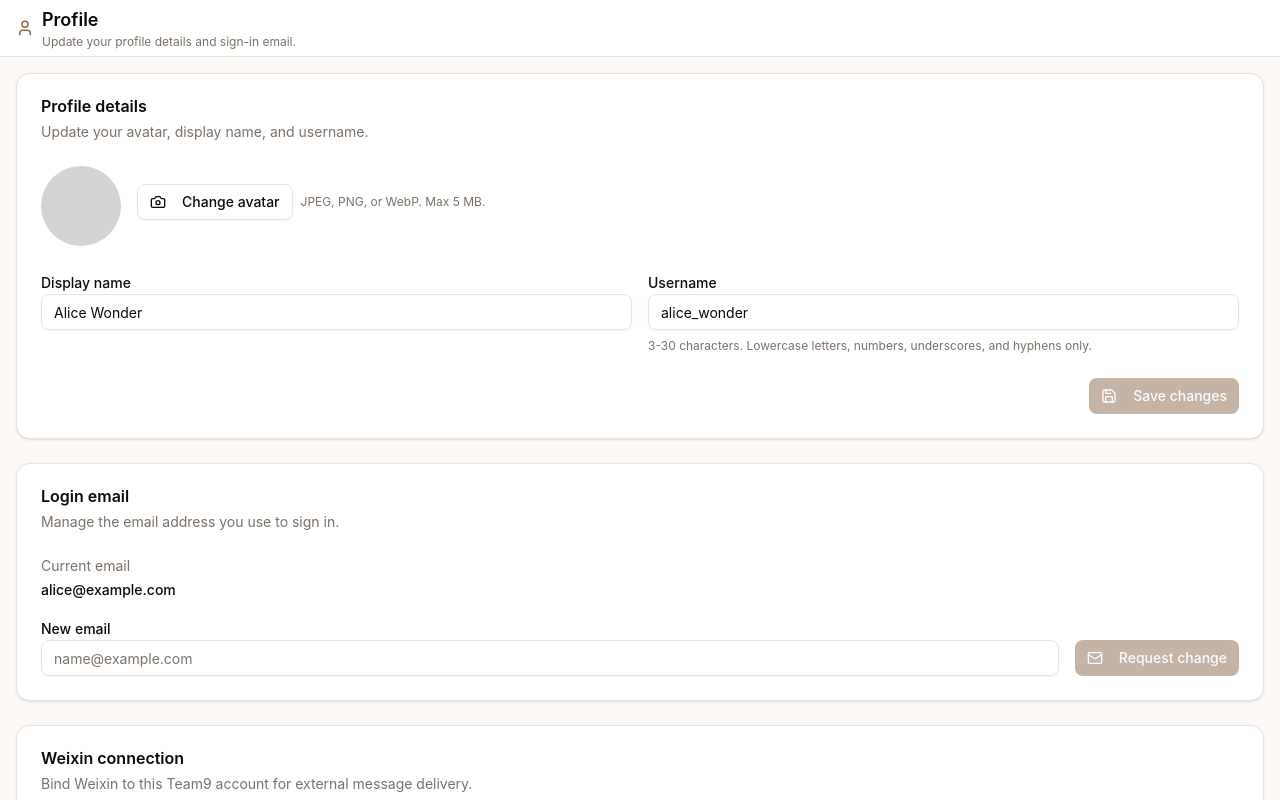
Test: AccountSettingsContent › shows a specific error when the new email is already in use
Type "taken@example.com" into the field labelled "New email".
click(550, 658); type("taken@example.com")  # box [41,640,1059,676]
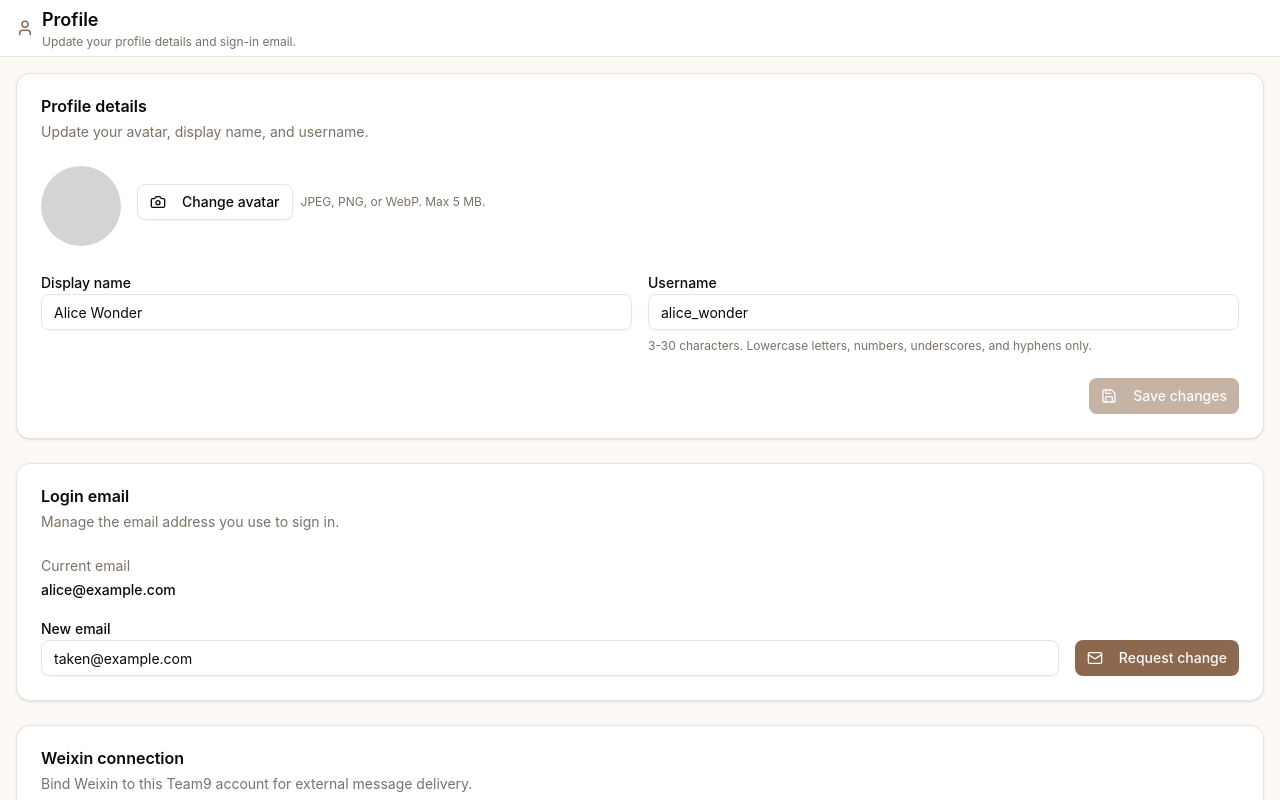
Click the button "Request change".
click(1157, 658)  # box [1075,640,1239,676]
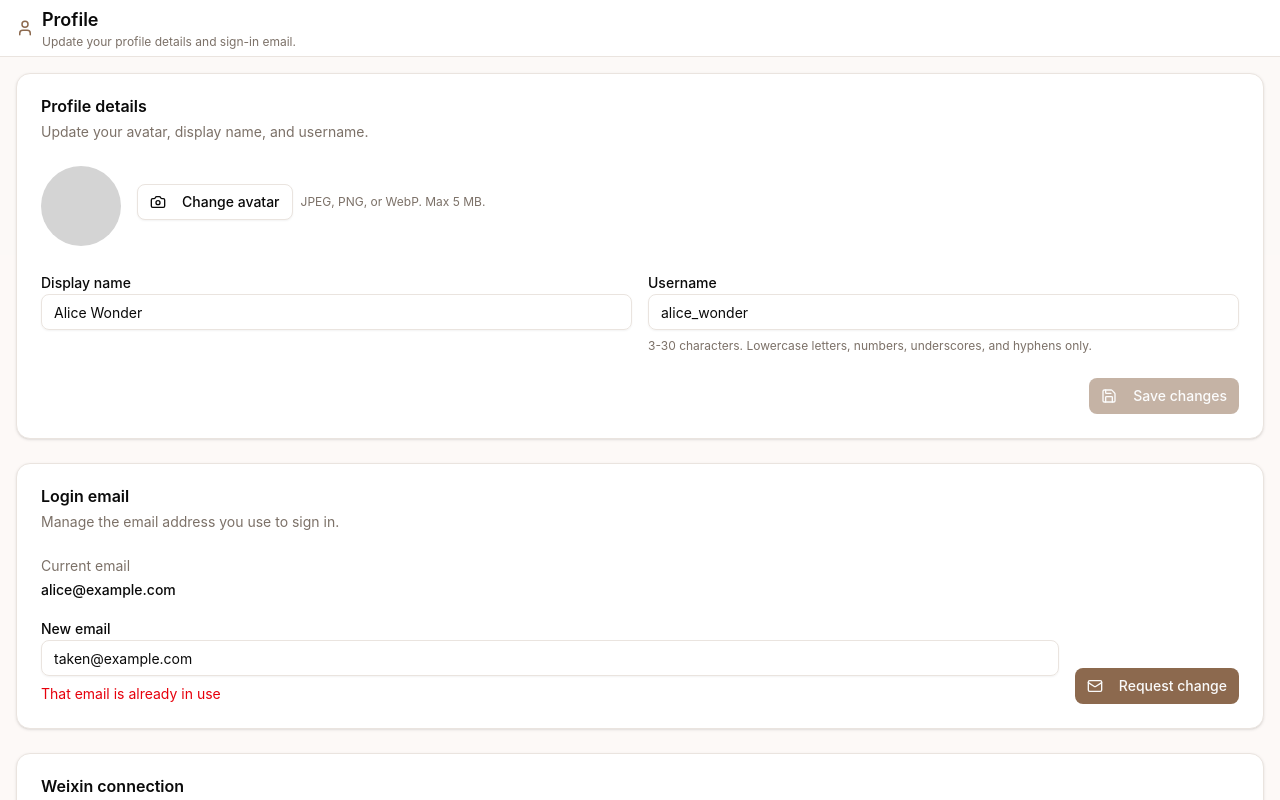
Now the text "That email is already in use" is shown, box [41,685,221,702]
